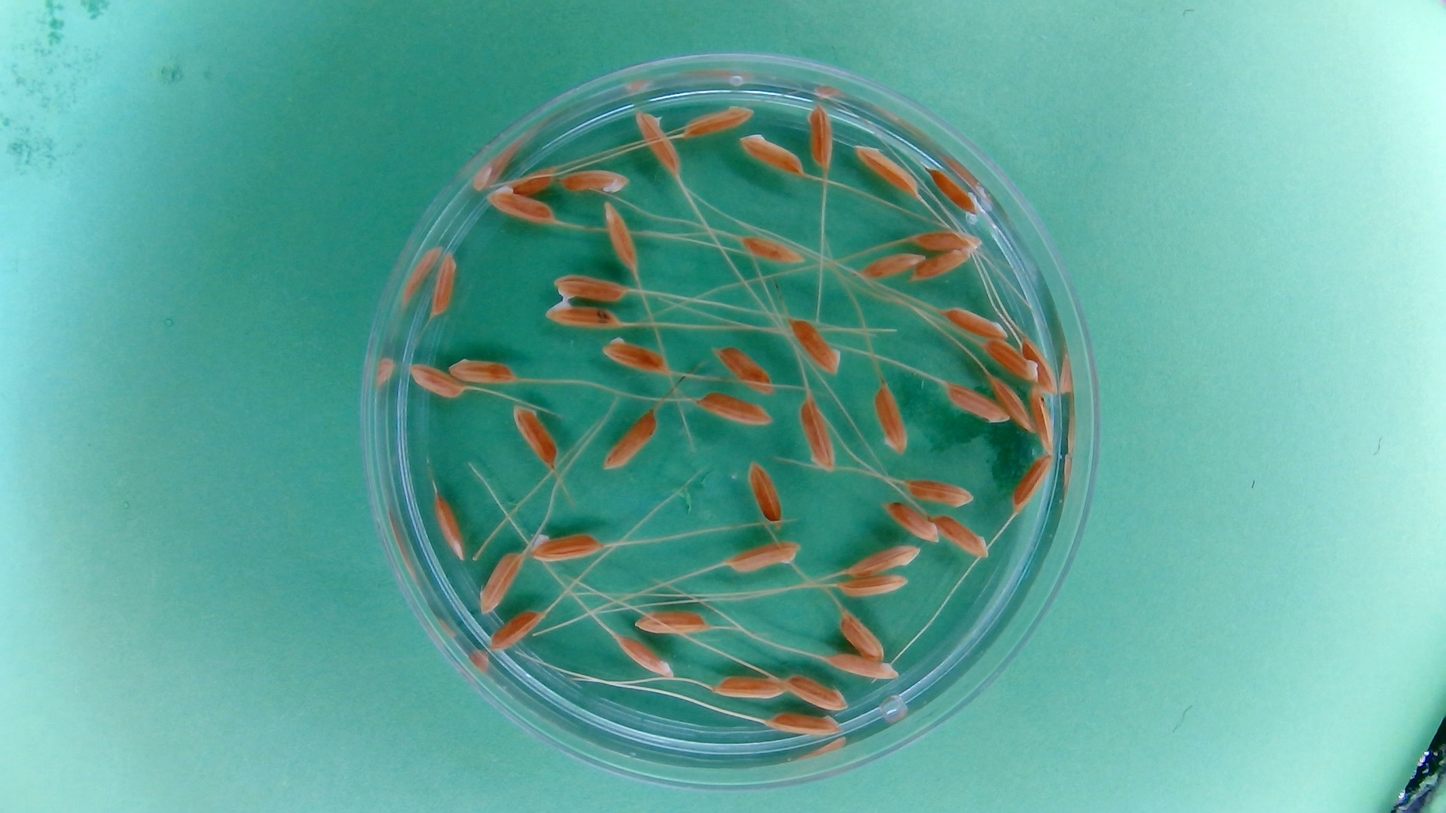no: (850, 141, 920, 198), (509, 401, 560, 473), (602, 409, 660, 472), (734, 130, 807, 179), (786, 315, 843, 377), (633, 107, 682, 179), (796, 394, 839, 473), (712, 343, 774, 396), (482, 185, 557, 228), (941, 379, 1011, 425), (599, 333, 670, 377), (987, 371, 1036, 434), (1010, 449, 1056, 516), (477, 549, 523, 616), (925, 163, 981, 218), (977, 336, 1038, 385), (907, 245, 981, 285), (696, 391, 773, 429), (932, 510, 991, 559), (679, 102, 755, 140), (600, 199, 639, 273), (842, 542, 921, 578), (614, 632, 675, 678), (941, 303, 1011, 343), (873, 383, 911, 456), (837, 608, 888, 662), (880, 499, 941, 544), (725, 539, 802, 574), (1020, 331, 1060, 398), (801, 99, 837, 172), (432, 489, 468, 562), (903, 475, 978, 510), (529, 528, 604, 563), (488, 606, 545, 652), (746, 458, 785, 525), (782, 673, 848, 712), (632, 607, 712, 638), (404, 360, 466, 400), (709, 671, 788, 702), (857, 249, 928, 283), (761, 710, 844, 739), (739, 231, 807, 266), (446, 355, 520, 387), (907, 224, 983, 255), (557, 165, 632, 196), (556, 274, 628, 306), (825, 650, 899, 681), (428, 248, 459, 318), (837, 571, 913, 599), (1028, 385, 1056, 457), (491, 169, 558, 199)
yes: (543, 297, 622, 330)
